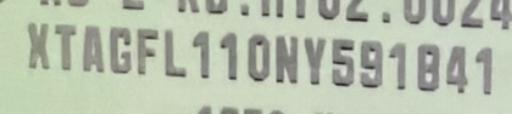letter: (328, 36, 358, 89), (243, 29, 271, 85), (412, 41, 442, 92), (214, 29, 242, 83), (272, 33, 300, 85), (358, 38, 386, 90), (22, 21, 52, 68), (106, 23, 134, 73), (160, 27, 188, 77), (442, 44, 470, 94), (470, 44, 496, 97), (188, 28, 214, 80), (301, 33, 327, 85), (133, 26, 159, 76), (52, 22, 78, 69), (385, 41, 409, 91), (80, 23, 104, 71)
